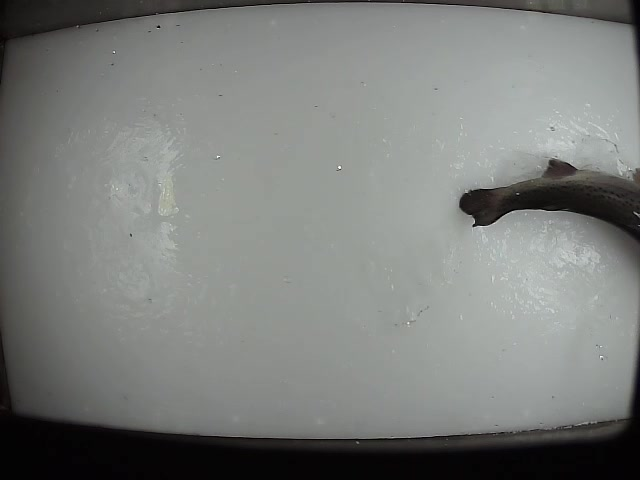fish: (456, 156, 640, 250)
